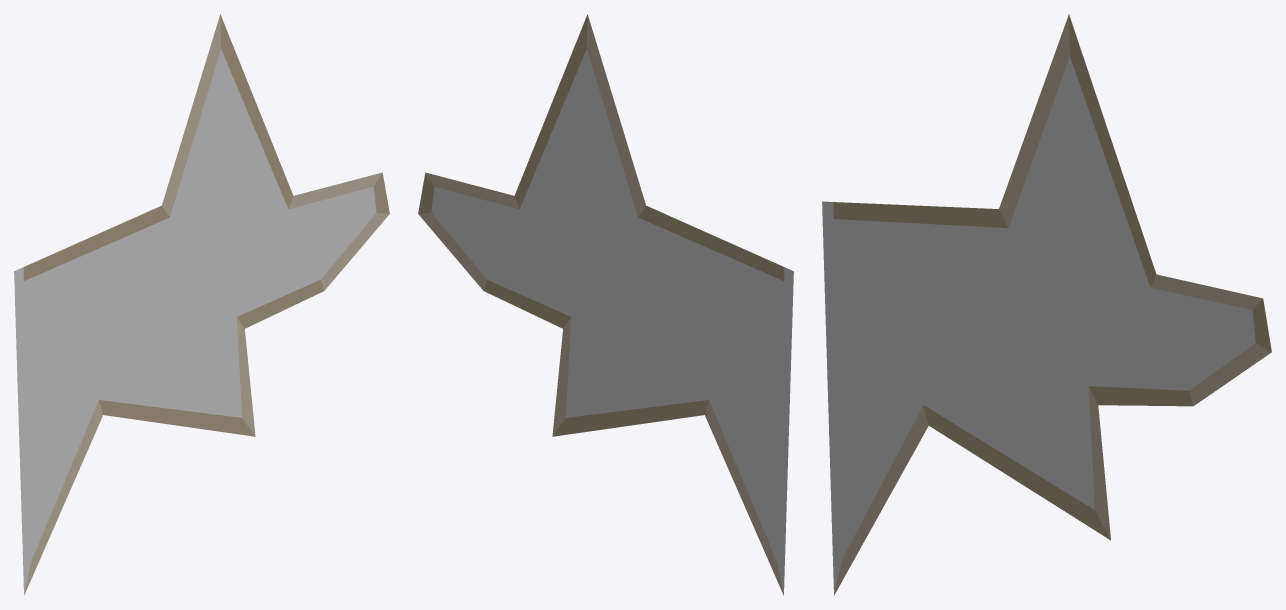
The model's file is treasureQuestPuzzlePiecesE.glb.
3 renders of one model, left to right at view 1: azimuth 30°, elevation 25°; view 2: azimuth 150°, elevation 25°; view 3: azimuth 330°, elevation 25°, orthographic. The views are drawn at different scales.
Visible parts, largest first — view 1: treasureQuestPuzzlePiecesE; view 2: treasureQuestPuzzlePiecesE; view 3: treasureQuestPuzzlePiecesE.
Boxes of the visible parts, bbox=[...] form: treasureQuestPuzzlePiecesE: bbox=[14, 14, 389, 595]; treasureQuestPuzzlePiecesE: bbox=[418, 14, 793, 595]; treasureQuestPuzzlePiecesE: bbox=[822, 14, 1271, 595].
Bounding box in the file's own units: 0.6048 × 0.8213 × 0.
